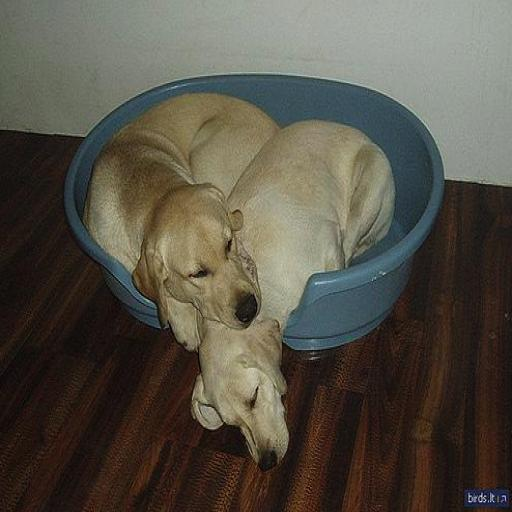dog_face: (188, 326, 305, 475), (143, 181, 258, 316)
